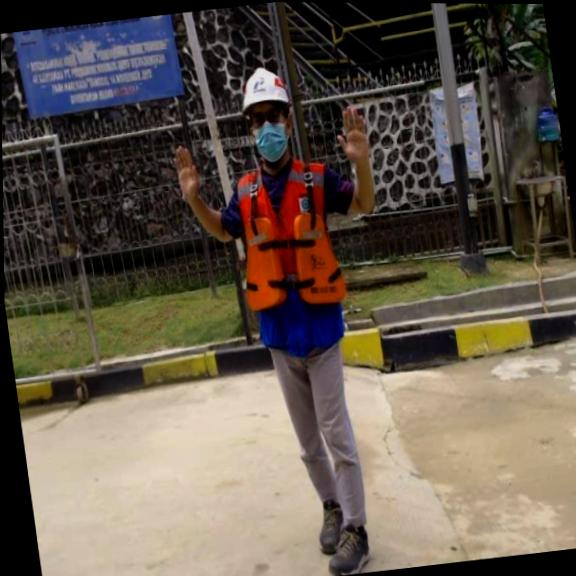safety_vest: (232, 205, 350, 320)
